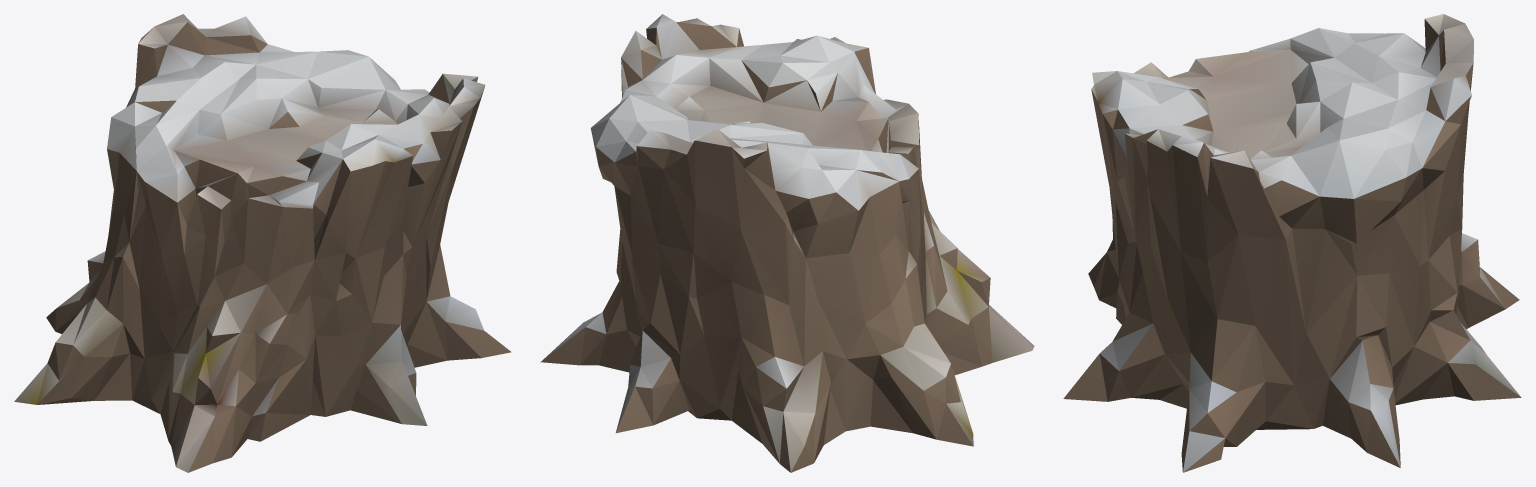
Rendered from gen-stump.glb.
3 renders of one model, left to right at view 1: azimuth 30°, elevation 25°; view 2: azimuth 150°, elevation 25°; view 3: azimuth 270°, elevation 25°, orthographic. The views are drawn at different scales.
Parts seen in each view (by area): view 1: model; view 2: model; view 3: model.
Boxes of the visible parts, bbox=[...] form: model: bbox=[14, 14, 511, 472]; model: bbox=[540, 14, 1034, 472]; model: bbox=[1063, 14, 1521, 472].
Bounding box in the file's own units: 1.19 × 0.8 × 1.
